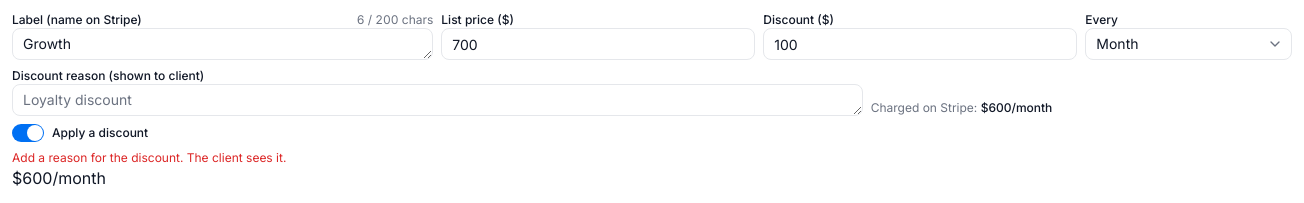
MoneyFields keeps the cadence on discounted recurring lines (RSL-34) › removing the discount restores the list price WITH its cadence
The width and height of the screenshot is (1304, 203).
Click the switch: [28, 133] box x1=12 y1=124 x2=44 y2=142
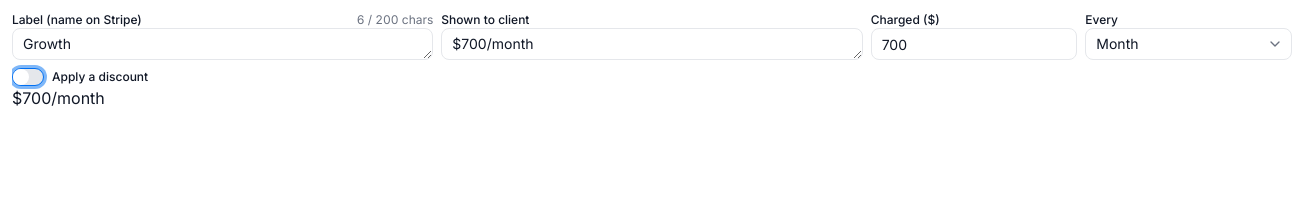
Result: the text with test id "stored" reads "$700/month" at x1=12 y1=88 x2=105 y2=108
